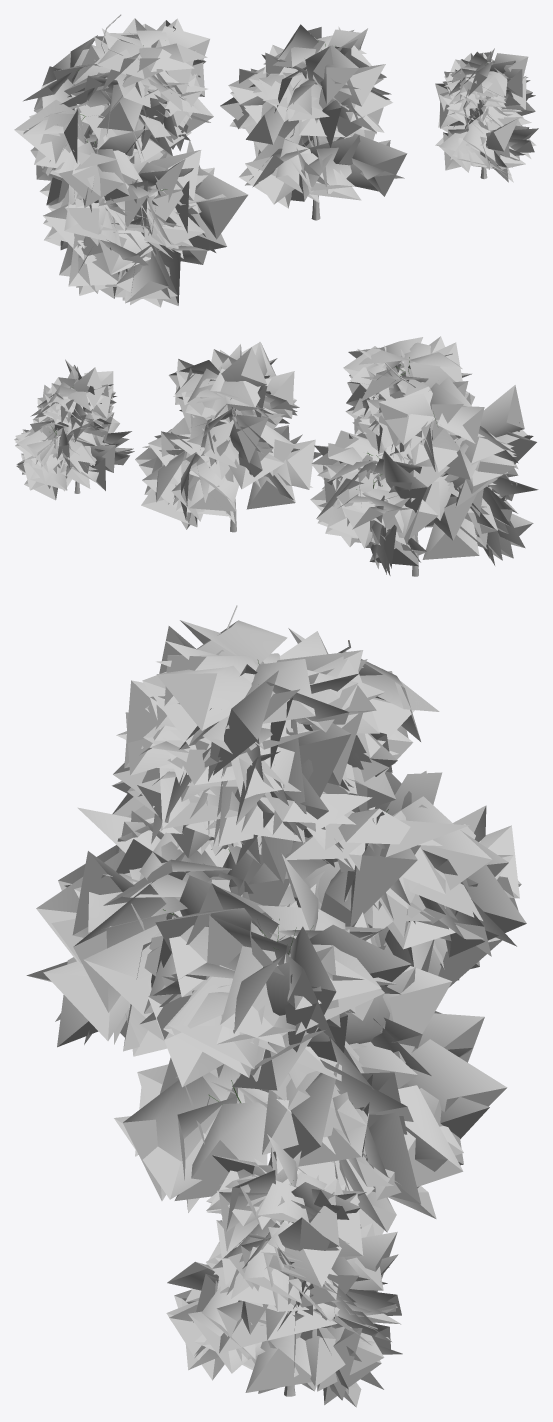
File: ChineseTrumpetVine.fbx
3 renders of one model, top to bottom at view 1: azimuth 30°, elevation 25°; view 2: azimuth 150°, elevation 25°; view 3: azimuth 270°, elevation 25°, orthographic. The views are drawn at different scales.
Parts seen in each view (by area): view 1: Chinese_Trumpet_Vine_1, Chinese_Trumpet_Vine_2, Chinese_Trumpet_Vine_3; view 2: Chinese_Trumpet_Vine_1, Chinese_Trumpet_Vine_2, Chinese_Trumpet_Vine_3; view 3: Chinese_Trumpet_Vine_1, Chinese_Trumpet_Vine_2, Chinese_Trumpet_Vine_3.
Part boxes in pixels (box(x1,y1,x2,y2)): Chinese_Trumpet_Vine_1: box(14, 14, 247, 307); Chinese_Trumpet_Vine_2: box(220, 24, 407, 220); Chinese_Trumpet_Vine_3: box(435, 48, 538, 182); Chinese_Trumpet_Vine_1: box(310, 336, 538, 576); Chinese_Trumpet_Vine_2: box(135, 342, 321, 532); Chinese_Trumpet_Vine_3: box(14, 359, 134, 500); Chinese_Trumpet_Vine_1: box(26, 605, 526, 1056); Chinese_Trumpet_Vine_2: box(114, 854, 507, 1235); Chinese_Trumpet_Vine_3: box(166, 1134, 402, 1407).
Size of the model in its own units: 923 by 404 by 417.
